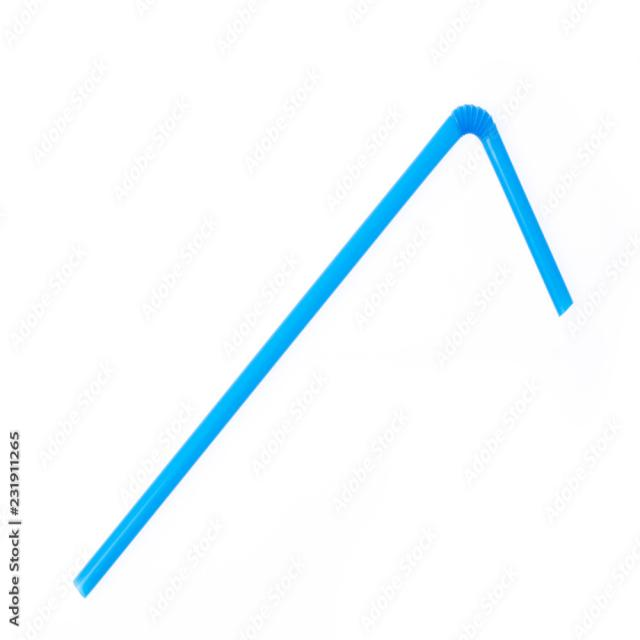plastic: (50, 42, 608, 606)
